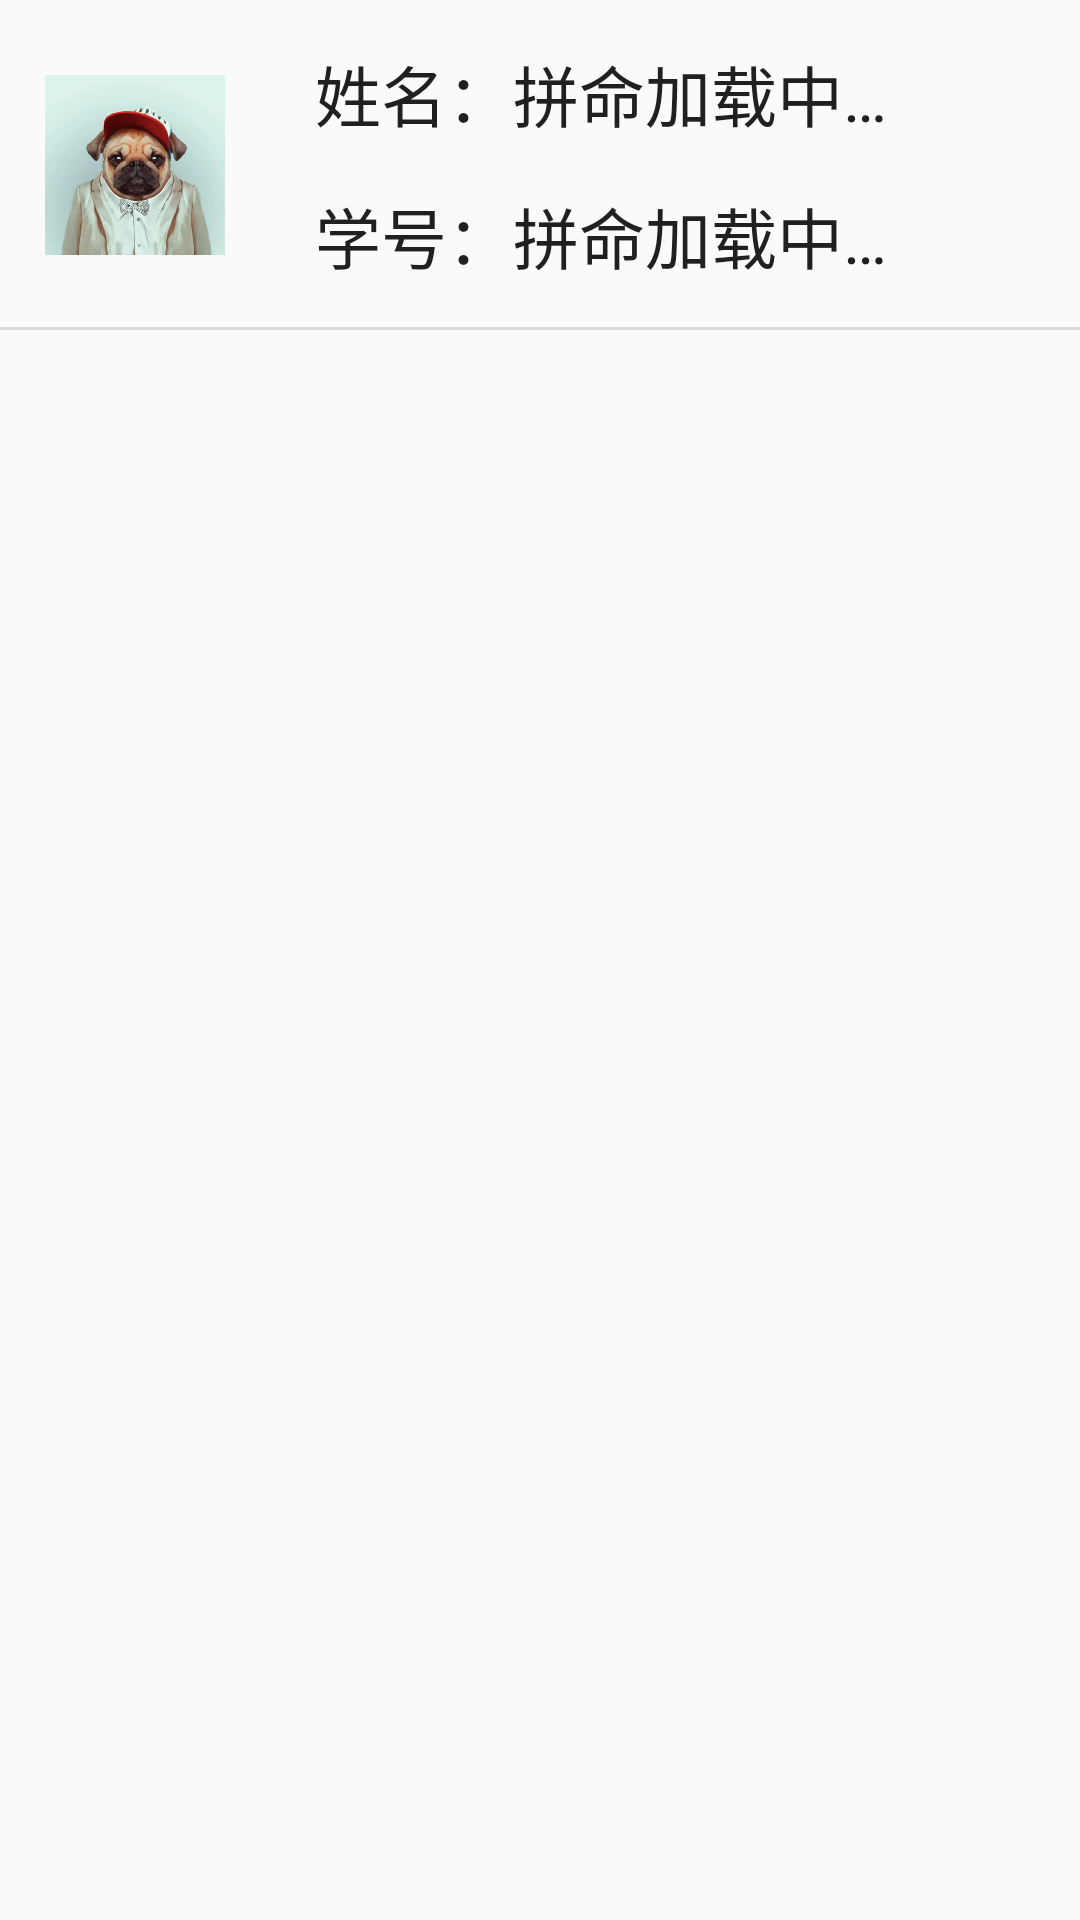

Screen size 1080 x 1920. Icon name, then its box in pixels as (x1, y1, x2, y2):
photo: (45, 75, 225, 255)
